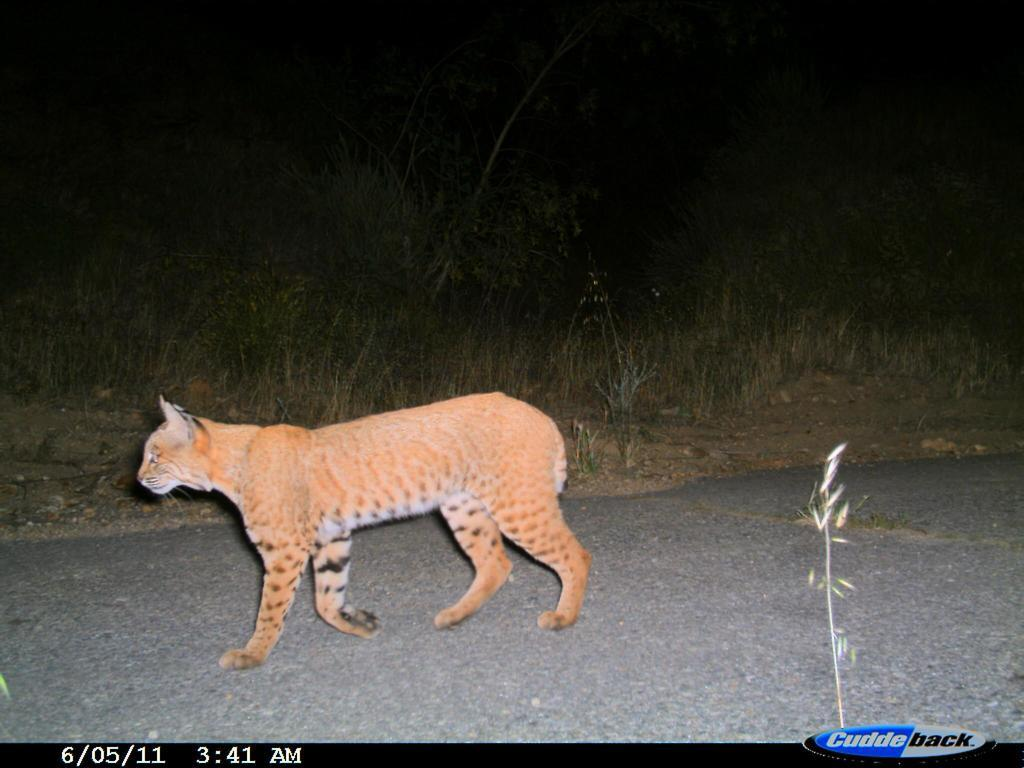bobcat: (136, 387, 598, 670)
